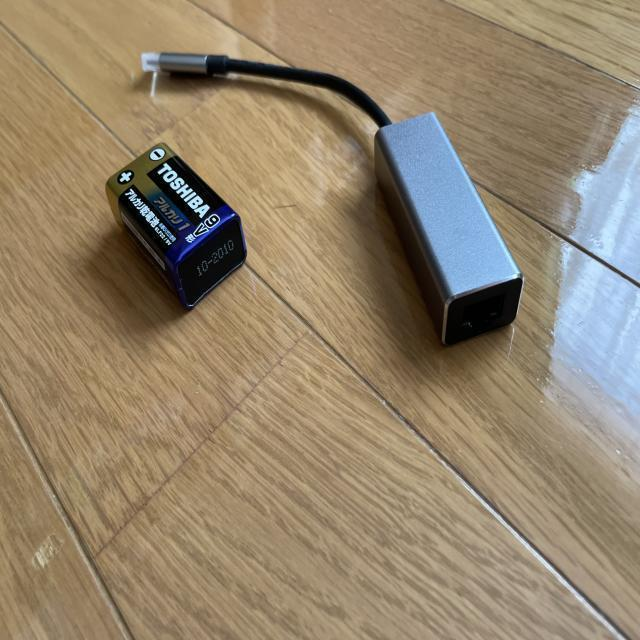9V: (105, 142, 248, 311)
